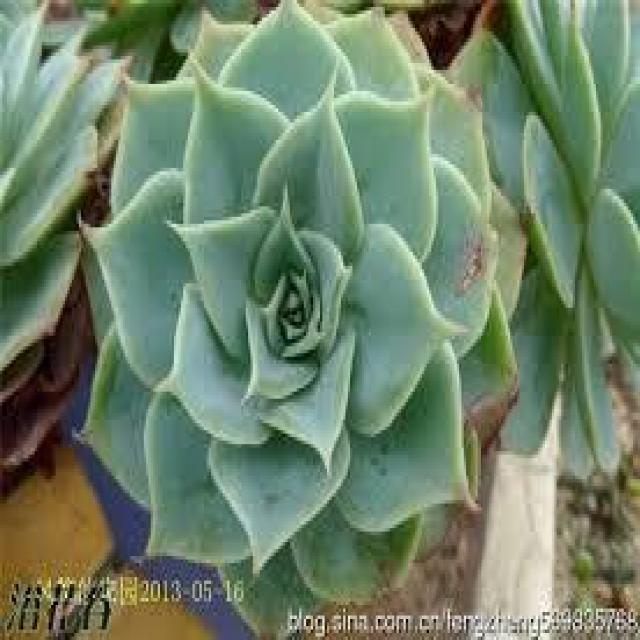organic waste: (85, 33, 532, 579)
